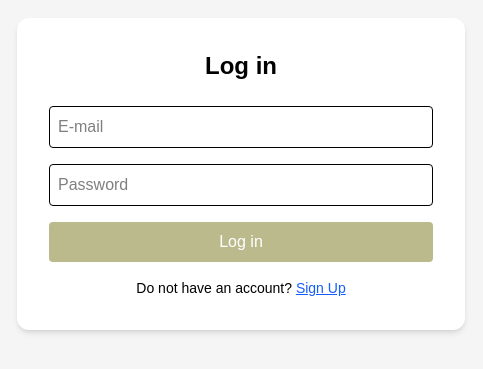
Test case: LoginPage › shows error message on failed login
Type "wrong@test.com" into the field with placeholder "E-mail".
click(241, 127); type("wrong@test.com")  # box [49,106,433,148]
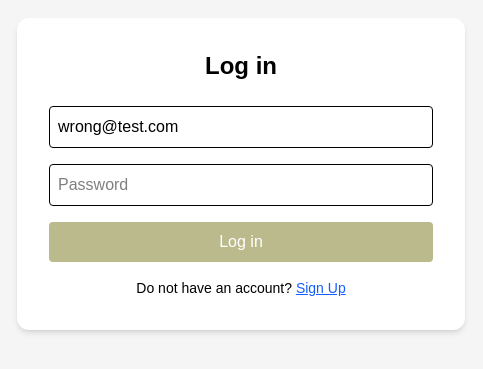
Type "wrongpass" into the password field with placeholder "Password".
click(241, 185); type("wrongpass")  # box [49,164,433,206]
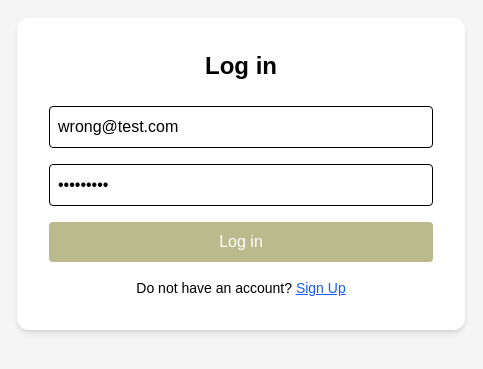
Submit the form from the button "Log in", box [49,222,433,262]
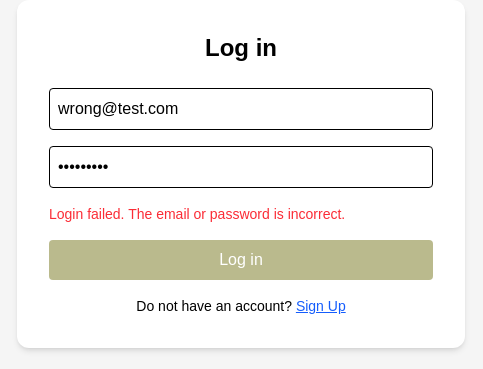
Expected: the text "Login failed. The email or password is incorrect." is shown, [49,206,345,222]
